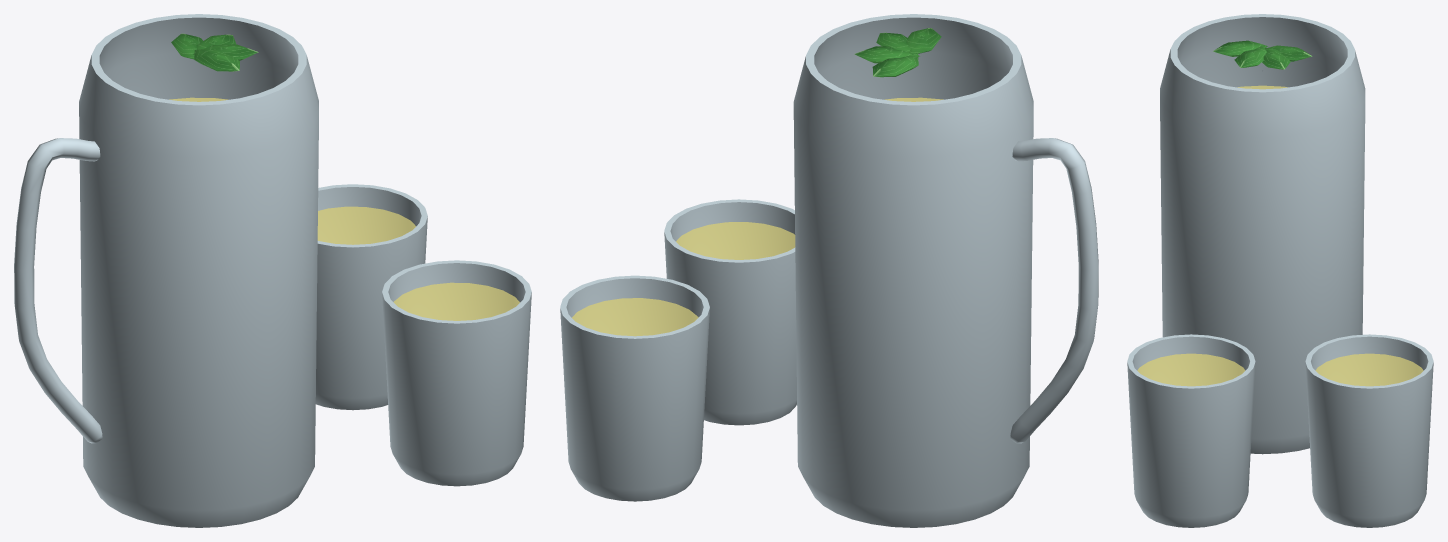
The model's file is drink_lemonade_pitcher_set.glb.
3 views of the same model, side by side, from view 1: azimuth 30°, elevation 25°; view 2: azimuth 150°, elevation 25°; view 3: azimuth 270°, elevation 25° (orthographic). The views are drawn at different scales.
Parts seen in each view (by area): view 1: drink_lemonade_pitcher_set; view 2: drink_lemonade_pitcher_set; view 3: drink_lemonade_pitcher_set.
Part boxes in pixels (x1=…): drink_lemonade_pitcher_set: x1=14, y1=14, x2=531, y2=527; drink_lemonade_pitcher_set: x1=560, y1=14, x2=1098, y2=527; drink_lemonade_pitcher_set: x1=1127, y1=14, x2=1433, y2=527.
Bounding box in the file's own units: 0.2583 × 0.2319 × 0.172.
5 materials, 1 textured.
